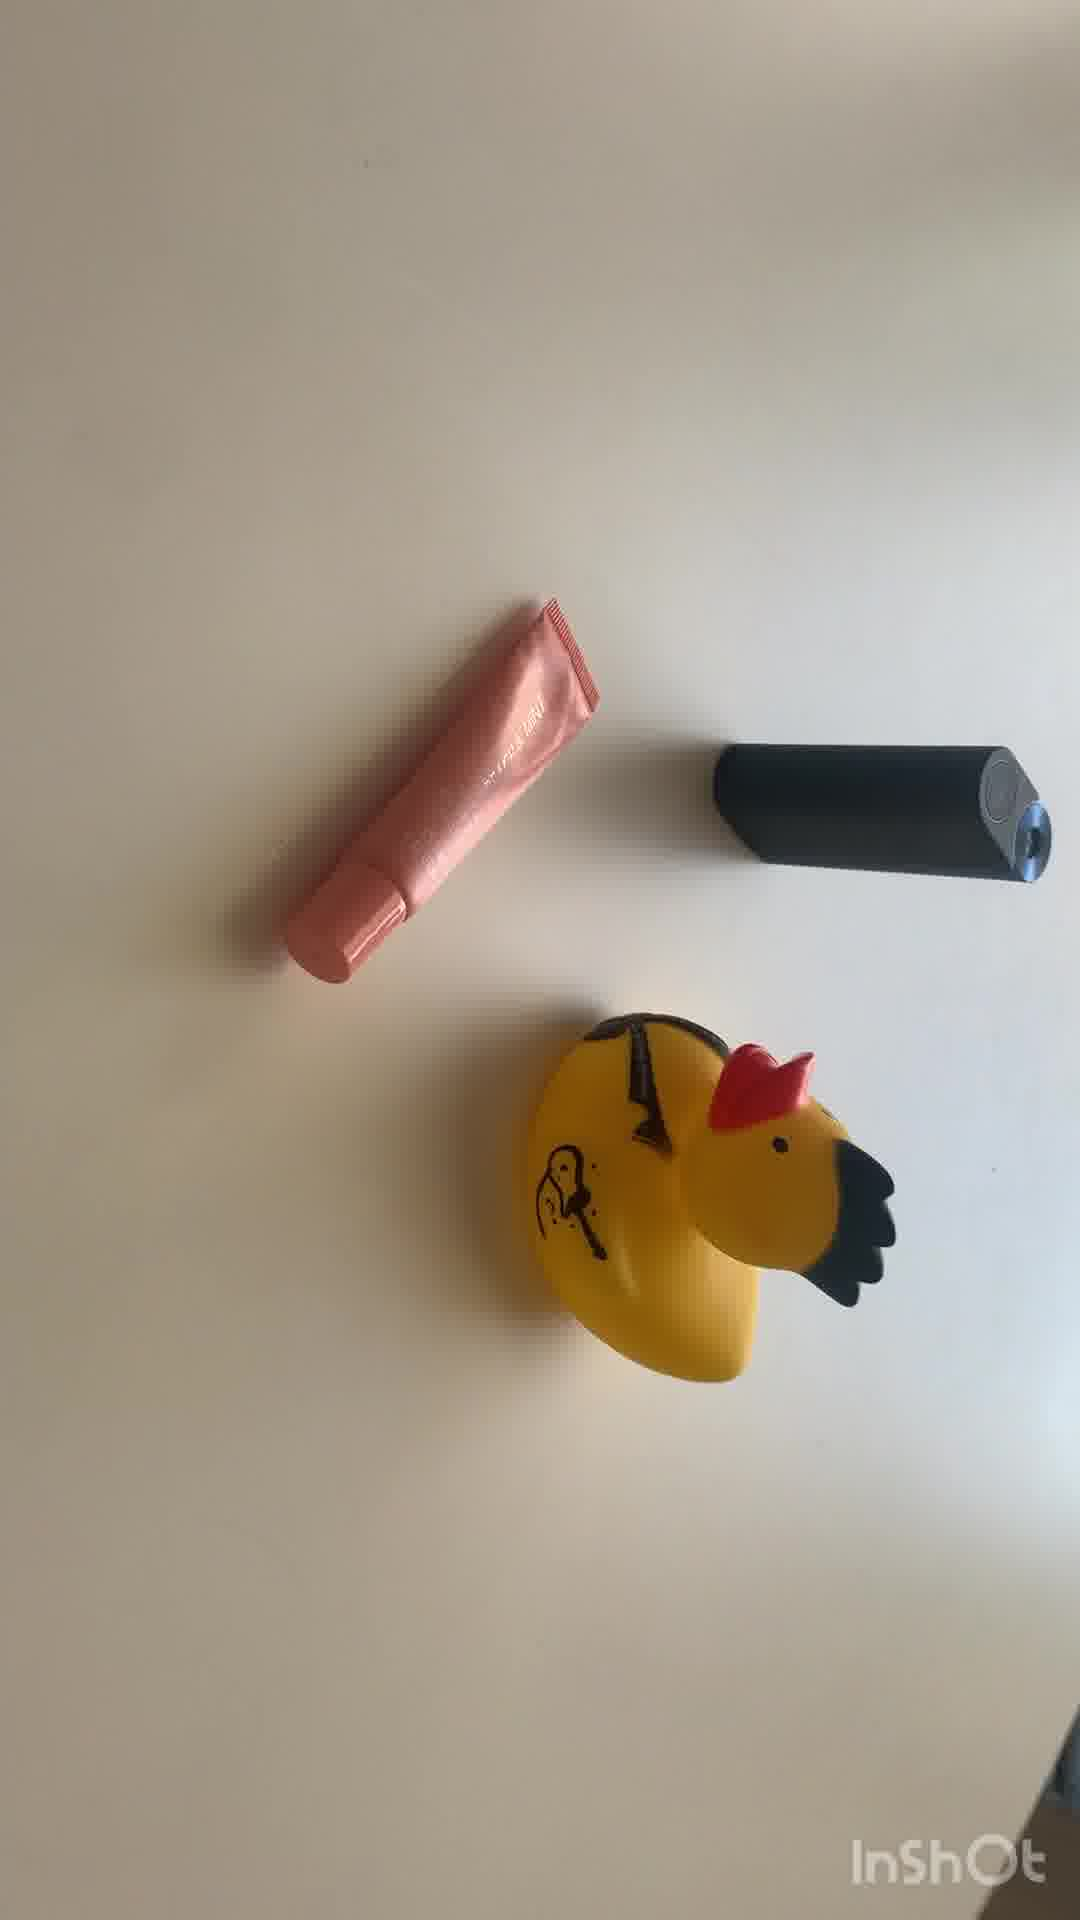duck: (508, 1005, 898, 1387)
glo: (709, 735, 1059, 887)
lip balm: (269, 595, 605, 990)
